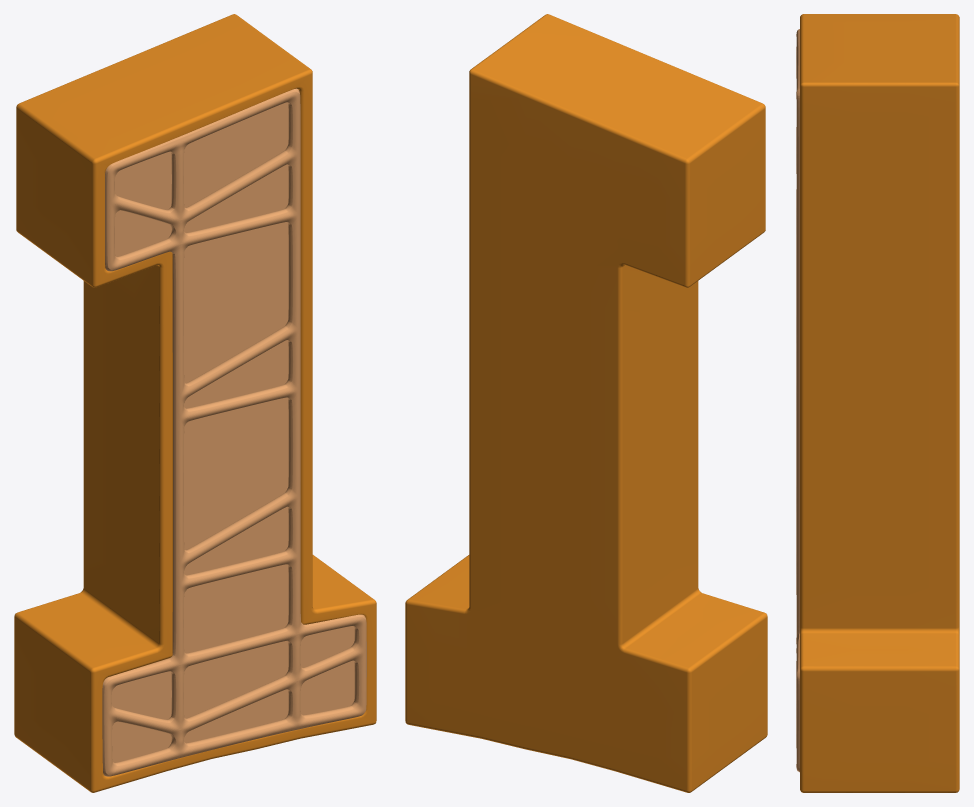
File: 1_nuevo.glb
The picture shows the model from 3 angles, left to right: view 1: azimuth 30°, elevation 25°; view 2: azimuth 150°, elevation 25°; view 3: azimuth 270°, elevation 25°; orthographic projection.
Parts seen in each view (by area): view 1: Text.026, Plane.028, Plane.066; view 2: Text.026; view 3: Text.026, Plane.066.
Boxes of the visible parts, x1,y1,x2,y2 form: Text.026: [14, 14, 376, 792]; Plane.028: [111, 102, 354, 762]; Plane.066: [102, 88, 366, 776]; Text.026: [405, 14, 767, 792]; Text.026: [800, 14, 959, 792]; Plane.066: [796, 29, 799, 772].
Bounding box in the file's own units: 1.63 × 3.64 × 0.7937.
